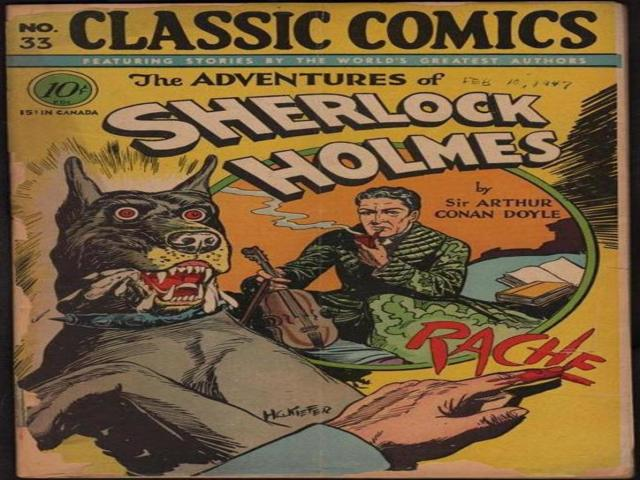Dog: (12, 154, 365, 479)
